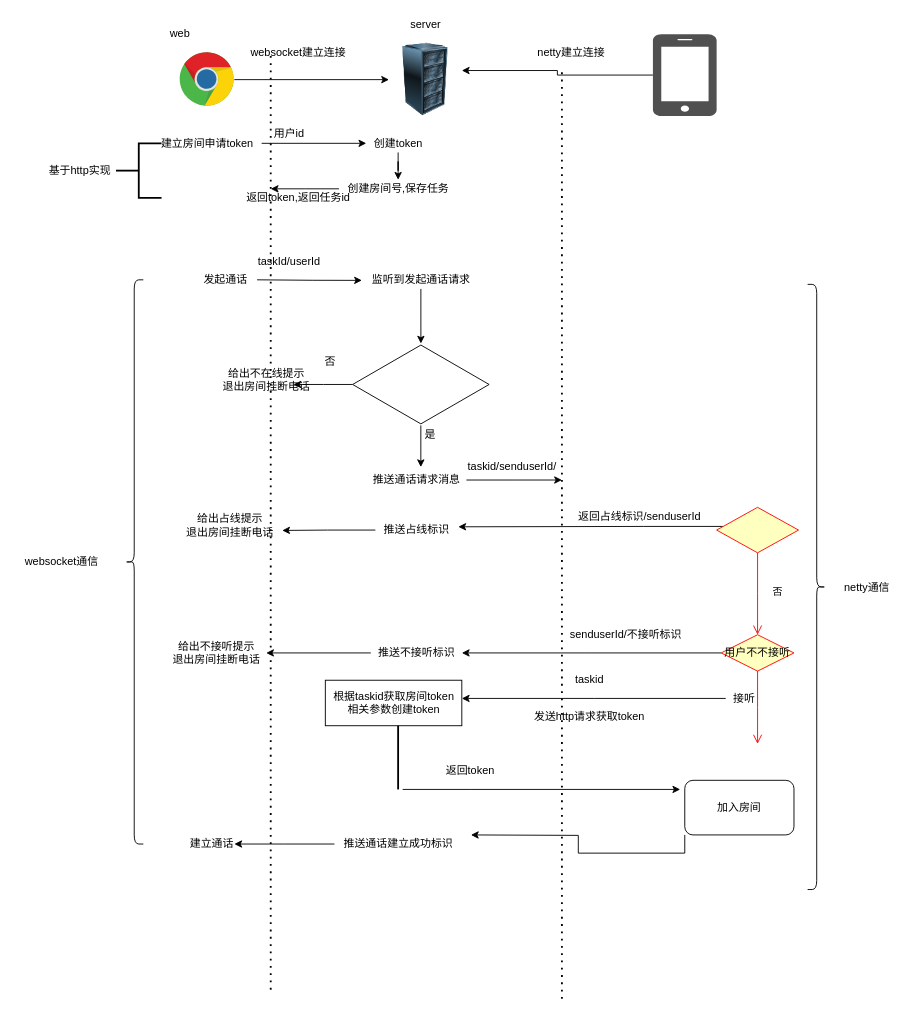
Image size: 914x1016. Some labels were removed from this diagram. The box of each missing label's shape, as (x1, y1, x2, y2) in pixels:
判断app用户是否在线: (352, 343, 489, 425)
判断是否在通话中: (716, 506, 799, 553)
